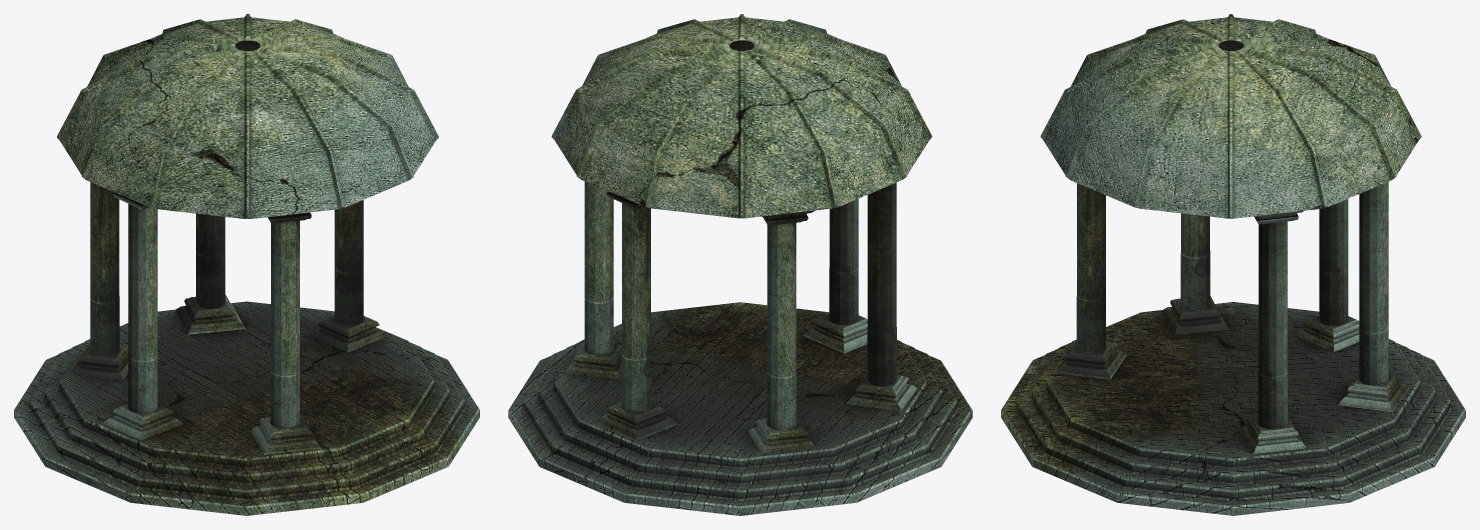
File: MiniTemple2.FBX
3 views of the same model, side by side, from view 1: azimuth 30°, elevation 25°; view 2: azimuth 150°, elevation 25°; view 3: azimuth 270°, elevation 25° (orthographic).
Visible parts, largest first — view 1: MiniTemple; view 2: MiniTemple; view 3: MiniTemple.
Part boxes in pixels (x1,y1,x2,y2): MiniTemple: (14,14,479,515); MiniTemple: (508,14,972,515); MiniTemple: (1001,14,1465,515).
Size of the model in its own units: 90.86 by 80.54 by 90.86.
